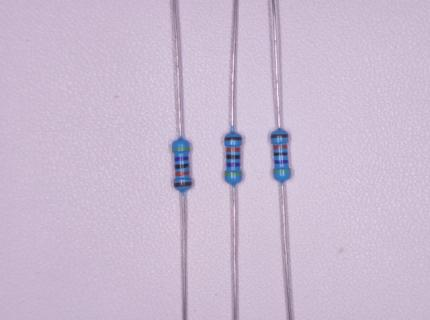Black band: (175, 164, 189, 169), (226, 155, 240, 159), (274, 152, 288, 156)
Brown band: (174, 182, 192, 187), (270, 134, 288, 138), (225, 137, 242, 140)
Orange band: (175, 171, 189, 176), (226, 148, 241, 152), (273, 145, 287, 149)
Violet band: (226, 163, 241, 167), (175, 157, 189, 161), (274, 160, 288, 164)
Yellow band: (172, 147, 190, 151), (273, 170, 291, 174), (225, 172, 242, 176)
